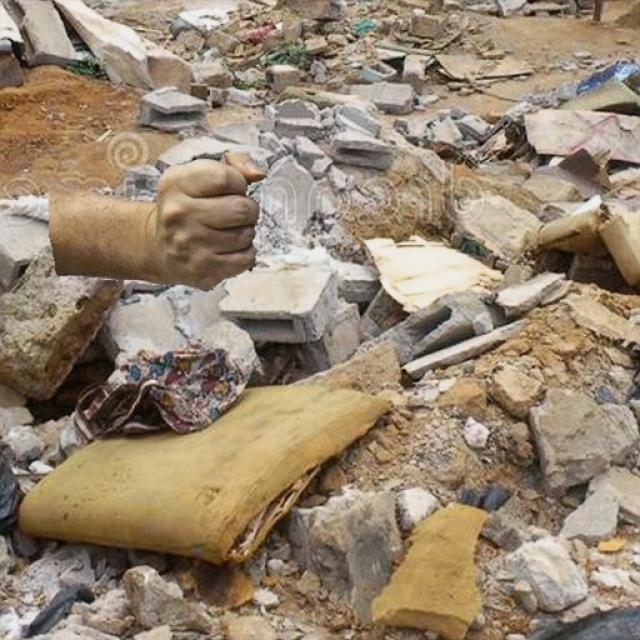Person in Rubble: (48, 152, 266, 290)
